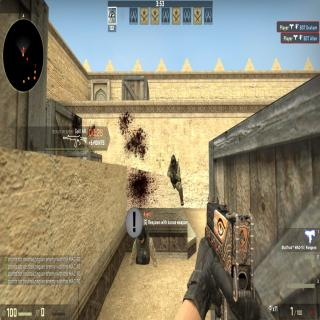CT-Body: (165, 154, 184, 202)
CT-Head: (170, 154, 177, 166)
